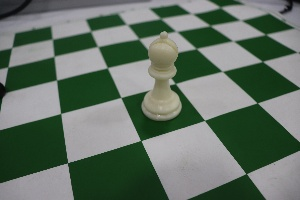white_bishop: (138, 22, 188, 125)
